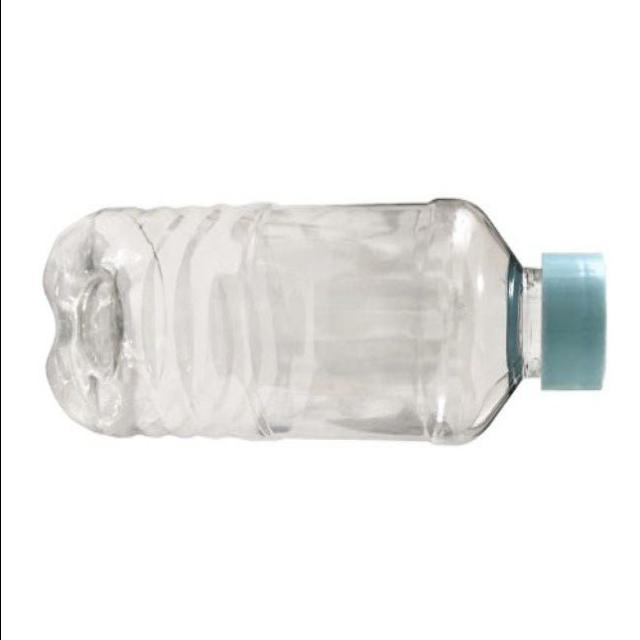bottom: (45, 198, 134, 462)
cap: (508, 237, 622, 423)
